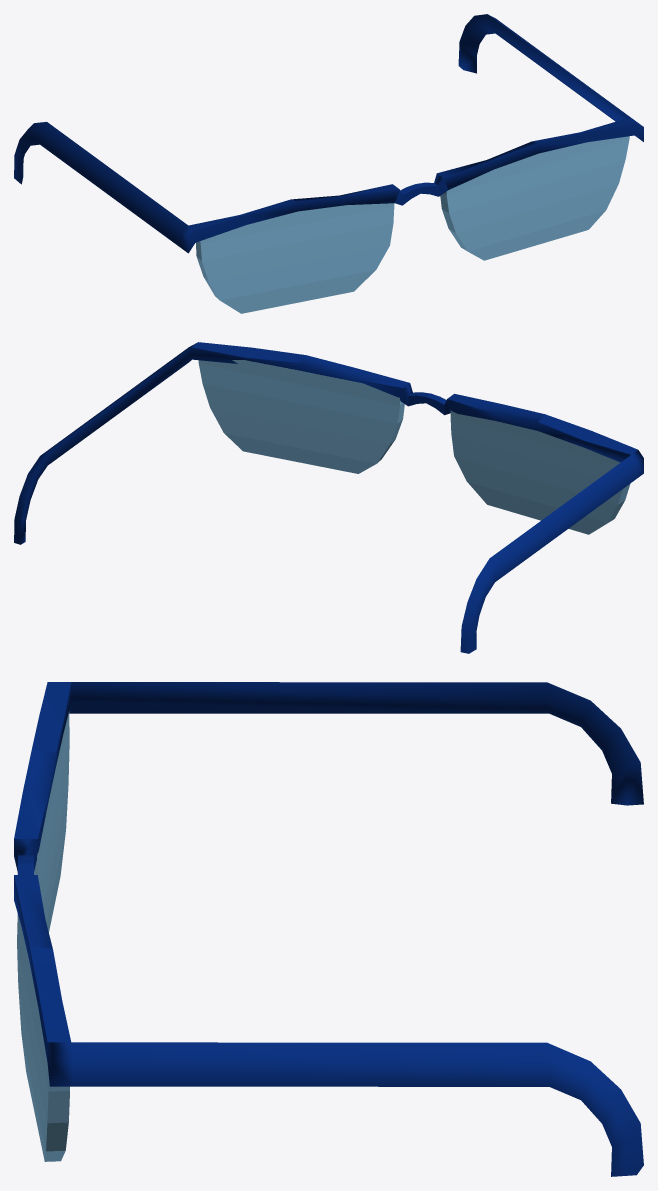
File: GAFAS_RAQUEL.fbx
The picture shows the model from 3 angles, top to bottom: view 1: azimuth 30°, elevation 25°; view 2: azimuth 150°, elevation 25°; view 3: azimuth 270°, elevation 25°; orthographic projection. The views are drawn at different scales.
Parts seen in each view (by area): view 1: Cube, Cube.002, Cube.001; view 2: Cube.002, Cube.001, Cube; view 3: Cube.002, Cube.001, Cube.
Part boxes in pixels (x1,y1,x2,y2): Cube: (196,203,394,313); Cube.002: (14,14,643,253); Cube.001: (440,136,629,260); Cube.002: (14,342,643,653); Cube.001: (198,360,404,473); Cube: (450,410,630,534); Cube.002: (14,682,643,1176); Cube.001: (17,914,69,1161); Cube: (17,711,69,932).
Bounding box in the file's own units: 40.37 × 8.68 × 28.78.
